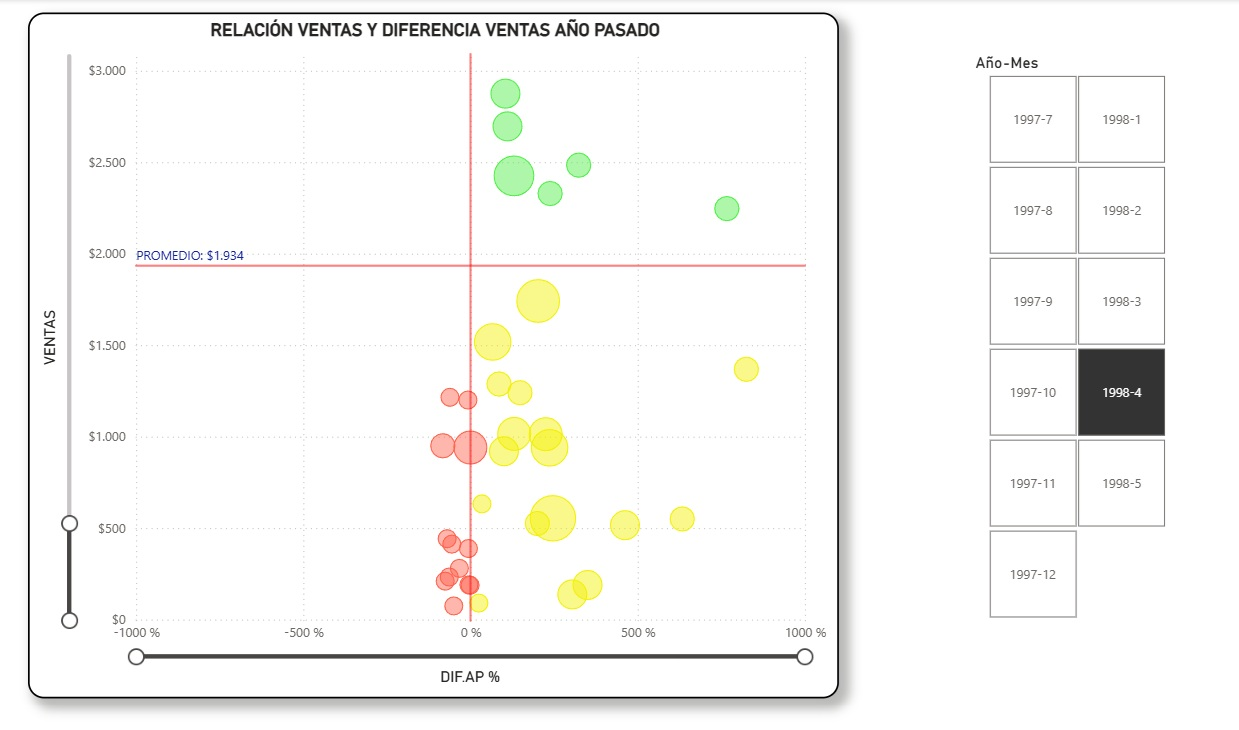

What the dashboard file says about the page in this screenshot:
{"tool":"powerbi","page":{"name":"DISPERSIÓN","canvas":[1280,720],"ordinal":0},"visuals":[{"type":"scatterChart","title":"RELACIÓN VENTAS Y DIFERENCIA VENTAS AÑO PASADO","fields":{"Category":["Products.ProductName"],"Y":["MEDIDAS.VENTAS"],"X":["MEDIDAS.DIF.AP %"],"Size":["MEDIDAS.CANTIDAD ORDENES"]},"box":[28.6,30.4,763.4,645.4],"z":0},{"type":"slicer","fields":{"Values":["CALENDARIO.Año-Mes"]},"box":[907.1,64.7,215.3,542.4],"z":1000}]}

Visuals, with their boxes on the page's 1280x720 design canvas (x1, y1, x2, y2). These are canvas units, not pixel positions in the 1239x730 screenshot, which may show the page scaled, cropped or inside an application window:
"RELACIÓN VENTAS Y DIFERENCIA VENTAS AÑO PASADO" scatterChart: BBox(29, 30, 792, 676)
slicer - CALENDARIO.Año-Mes: BBox(907, 65, 1122, 607)
